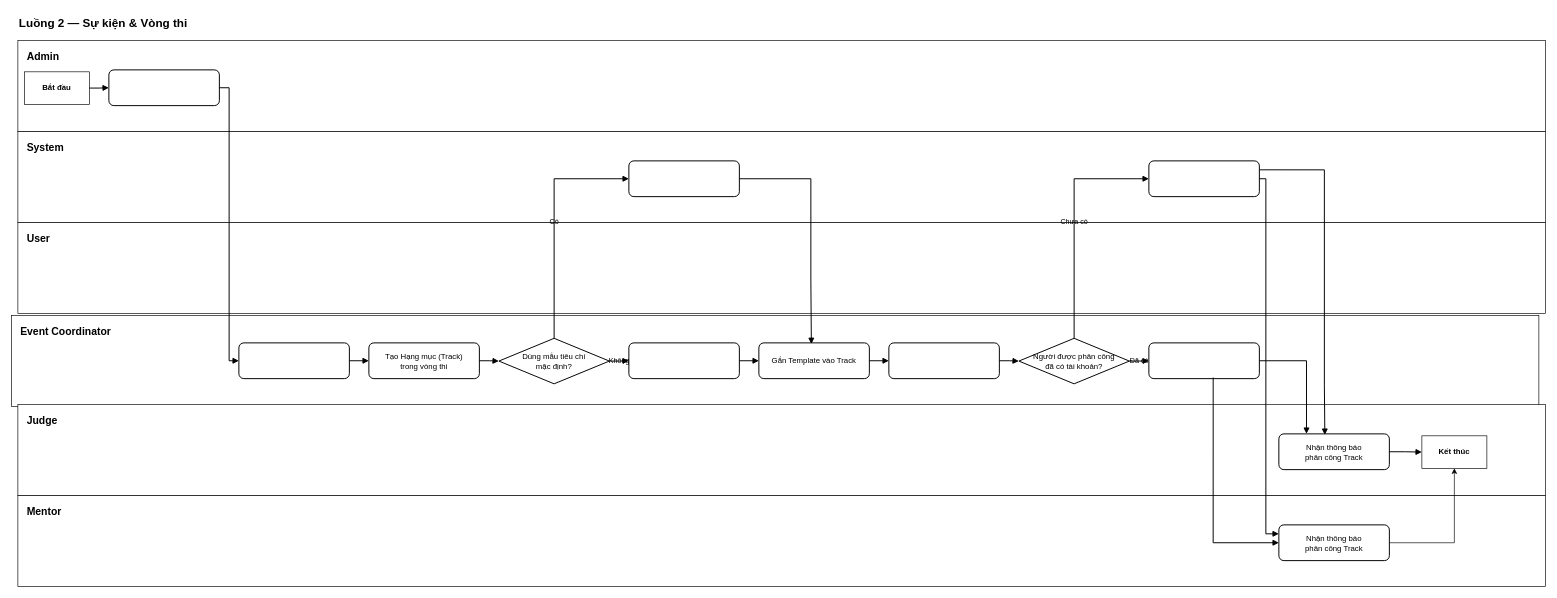
This 1557x598 diagram has some shape labels left out. Here are the shapes that lost their labels. From the top down, the centre of each, then its label:
At point (164, 87): "Tạo sự kiện (Event): tên, mùa, năm, mô tả".
At point (684, 178): "Áp dụng Template mặc định cho Track".
At point (1204, 178): "Tạo tài khoản tạm + gửi mail mời".
At point (294, 360): "Cấu hình Vòng thi (Round): hạn nộp bài, quy tắc thăng vòng".
At point (684, 360): "Tuỳ chỉnh Template: thêm/bớt/sửa Criteria".
At point (944, 360): "Phân công Judge & Mentor cho Track".
At point (1204, 360): "Gắn EventRole trực tiếp".
